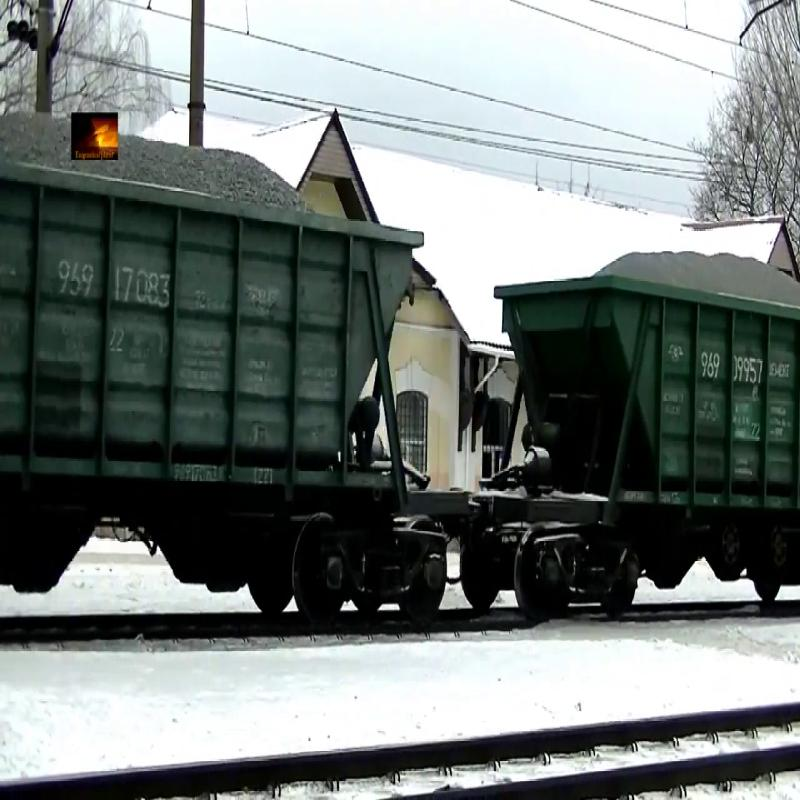train: (1, 137, 425, 613), (485, 239, 800, 631)
